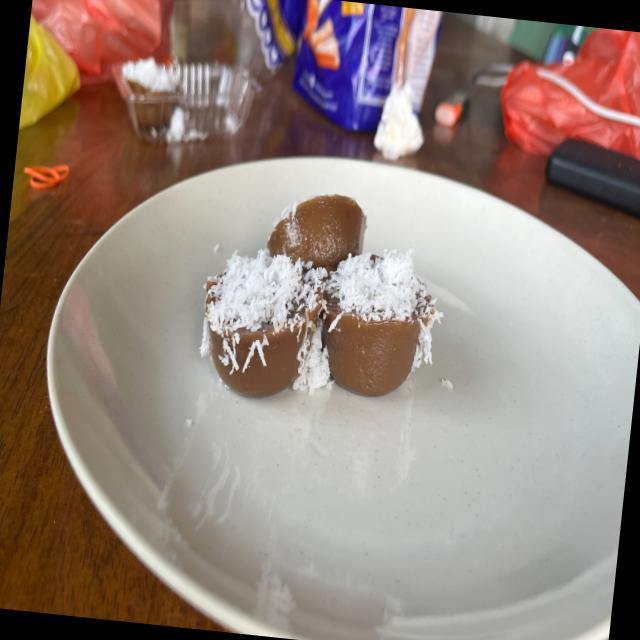Kuih lompang: (200, 249, 326, 396), (322, 249, 440, 396), (266, 194, 366, 270)
